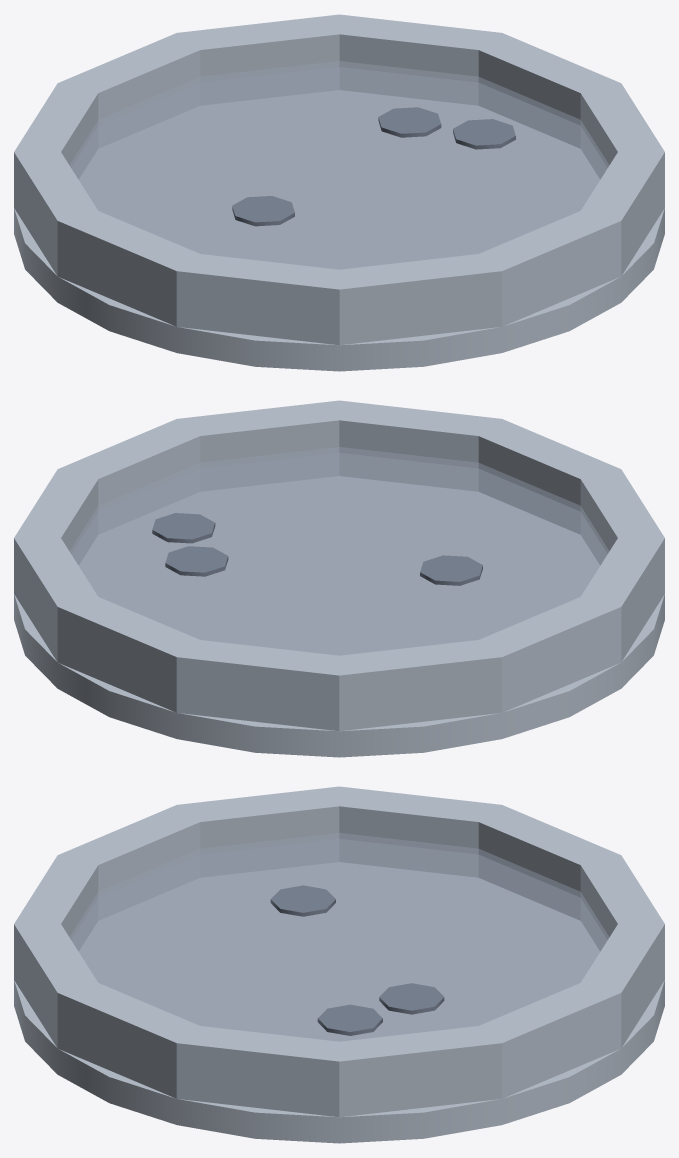
Rendered from 圆形景观池-lite.glb.
The picture shows the model from 3 angles, top to bottom: view 1: azimuth 30°, elevation 25°; view 2: azimuth 150°, elevation 25°; view 3: azimuth 270°, elevation 25°; orthographic projection.
Visible parts, largest first — view 1: garden-pond-round; view 2: garden-pond-round; view 3: garden-pond-round.
Part boxes in pixels (left/top/right/bottom): garden-pond-round: left=14, top=14, right=664, bottom=371; garden-pond-round: left=14, top=400, right=664, bottom=757; garden-pond-round: left=14, top=786, right=664, bottom=1143.
Size of the model in its own units: 1.8 by 0.25 by 1.8.
